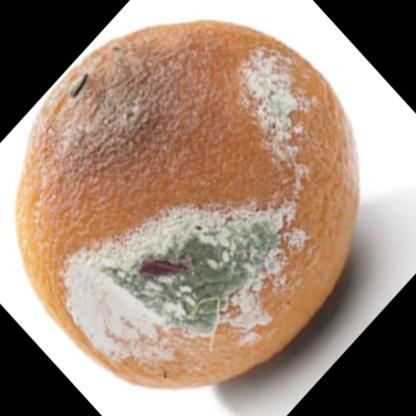rotten: (17, 20, 357, 388)
